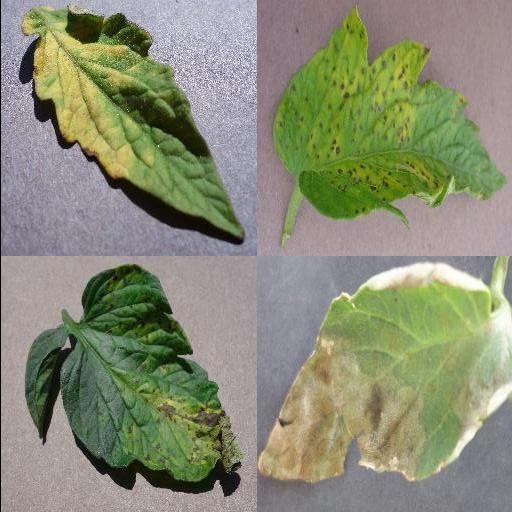Late Blight: (256, 263, 512, 485)
Leaf Mold: (19, 6, 243, 240)
Septoria: (271, 8, 507, 218), (59, 264, 243, 480)
